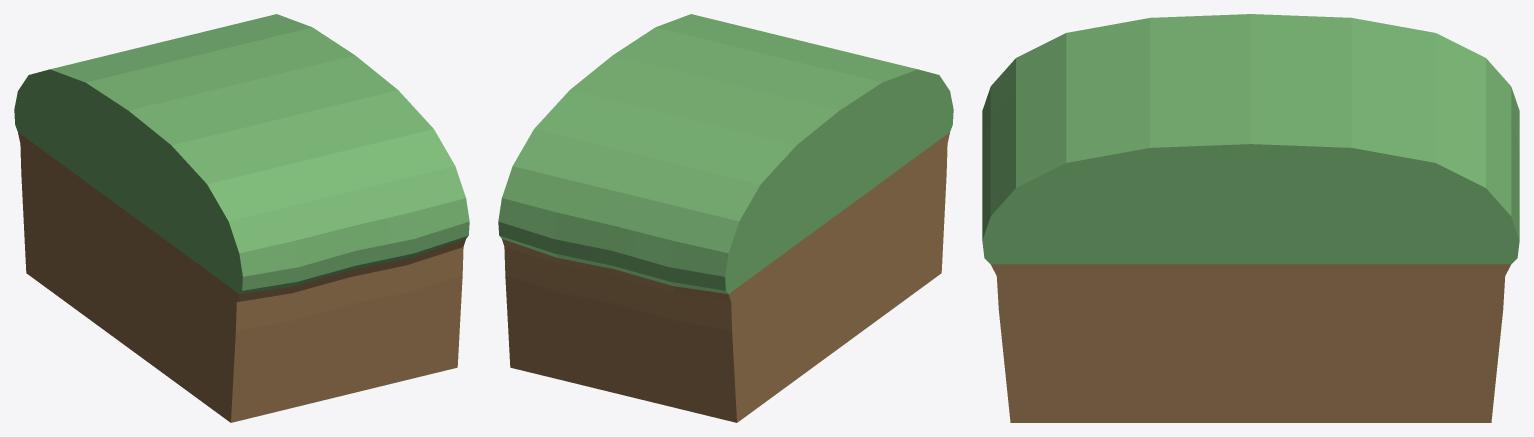
File: Platform_TopMiddle.glb
3 renders of one model, left to right at view 1: azimuth 30°, elevation 25°; view 2: azimuth 150°, elevation 25°; view 3: azimuth 270°, elevation 25°, orthographic. The views are drawn at different scales.
Visible parts, largest first — view 1: Platform_TopMiddle; view 2: Platform_TopMiddle; view 3: Platform_TopMiddle.
Boxes of the visible parts, x1,y1,x2,y2 form: Platform_TopMiddle: (14, 14, 469, 422); Platform_TopMiddle: (498, 14, 953, 422); Platform_TopMiddle: (982, 14, 1519, 422).
Bounding box in the file's own units: 2 × 2 × 3.49.
